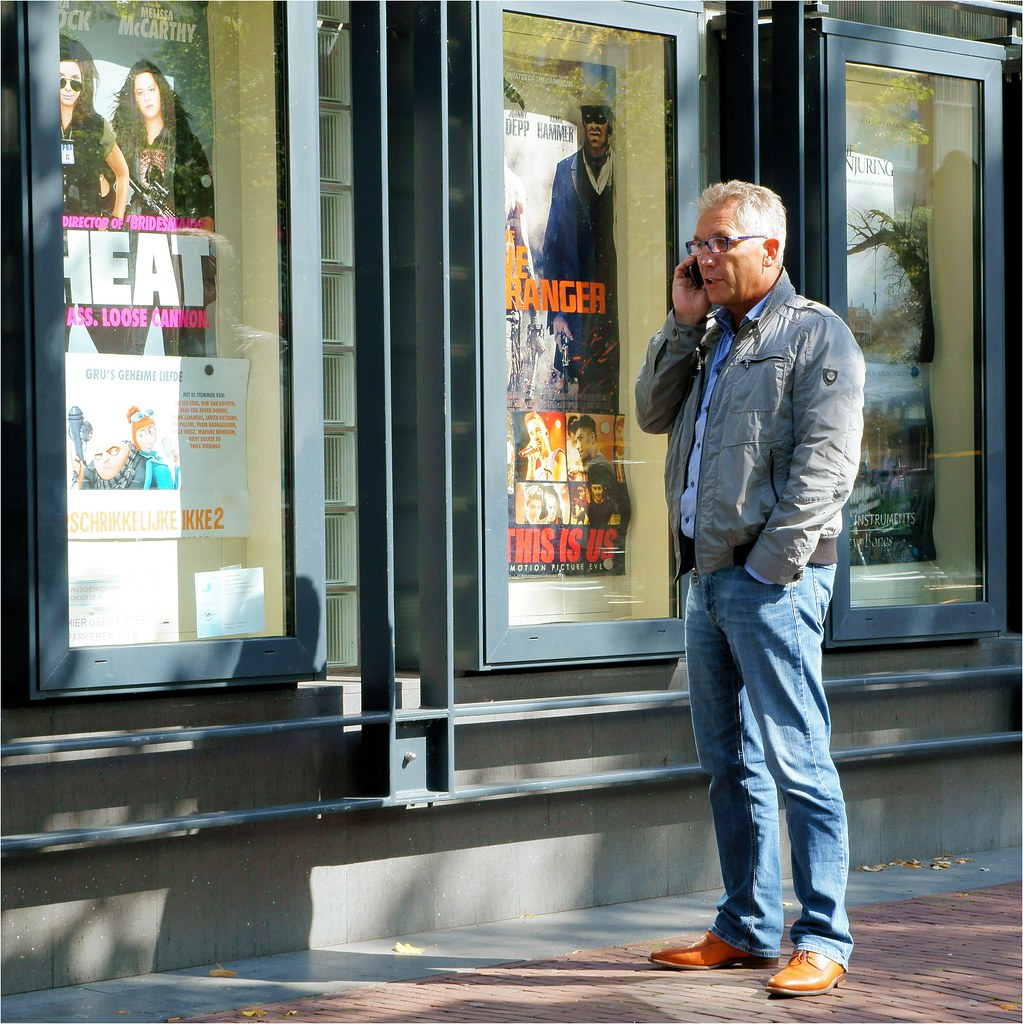phone: (668, 242, 713, 304)
talk: (659, 216, 770, 326)
